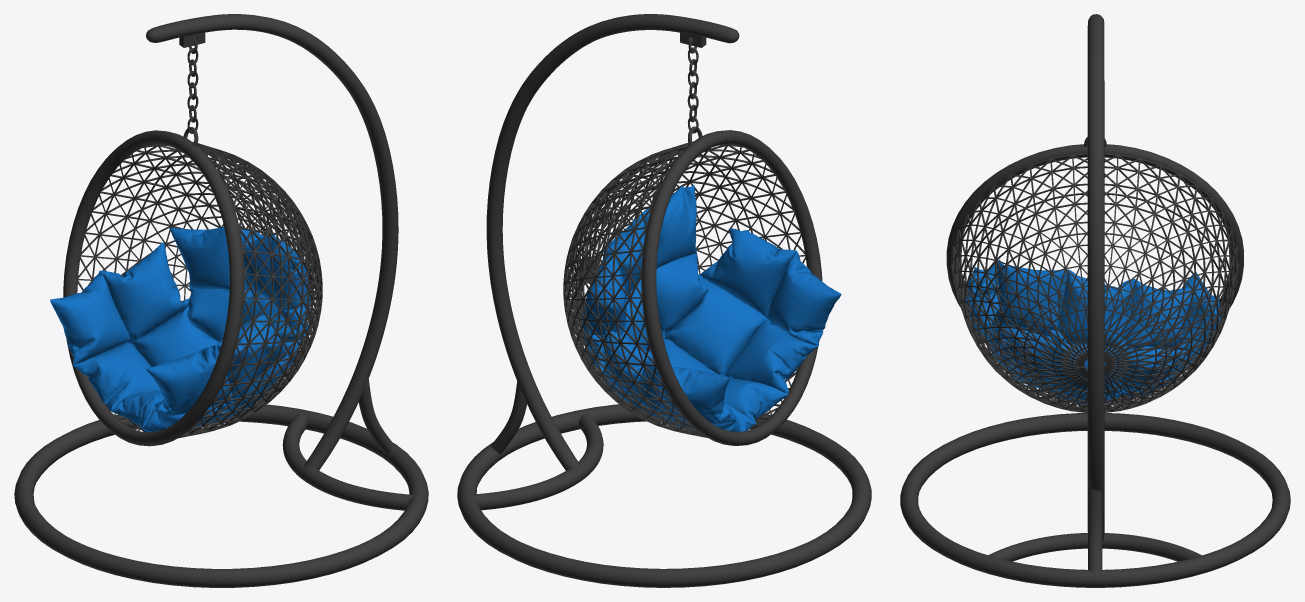
Rendered from basket_swing_chair.glb.
3 renders of one model, left to right at view 1: azimuth 30°, elevation 25°; view 2: azimuth 150°, elevation 25°; view 3: azimuth 270°, elevation 25°, orthographic. The views are drawn at different scales.
Visible parts, largest first — view 1: cushion, basket, part6, part2, part5, part8, part1, part7; view 2: cushion, basket, part6, part2, part5, part8, part1, part7; view 3: basket, part6, cushion, part2, part5, part8, part1.
Boxes of the visible parts, x1,y1,x2,y2 form: cushion: [50, 226, 310, 432]; basket: [78, 141, 322, 438]; part6: [14, 404, 428, 587]; part2: [146, 14, 398, 470]; part5: [63, 130, 243, 446]; part8: [282, 413, 413, 510]; part1: [358, 379, 395, 453]; part7: [183, 37, 198, 146]; cushion: [582, 185, 841, 431]; basket: [563, 141, 805, 437]; part6: [457, 404, 871, 587]; part2: [486, 14, 739, 470]; part5: [642, 130, 822, 445]; part8: [472, 413, 603, 510]; part1: [491, 381, 526, 453]; part7: [687, 37, 702, 146]; basket: [951, 153, 1239, 412]; part6: [900, 413, 1290, 587]; cushion: [964, 259, 1220, 404]; part2: [1087, 14, 1104, 540]; part5: [946, 144, 1243, 314]; part8: [988, 533, 1201, 561]; part1: [1088, 487, 1102, 571].
Bounding box in the file's own units: 2.09 × 2.74 × 2.09.
